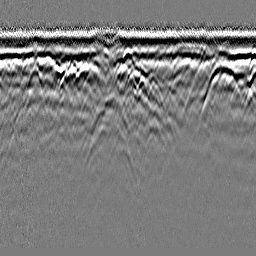cavity: (121, 47, 135, 67)
